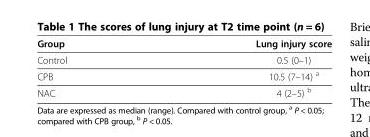table: (36, 37, 331, 98)
table column: (160, 37, 331, 98), (36, 37, 160, 98)
table column header: (36, 37, 331, 51)
table row: (36, 51, 331, 67), (36, 67, 331, 83), (36, 83, 331, 98), (36, 37, 331, 51)
